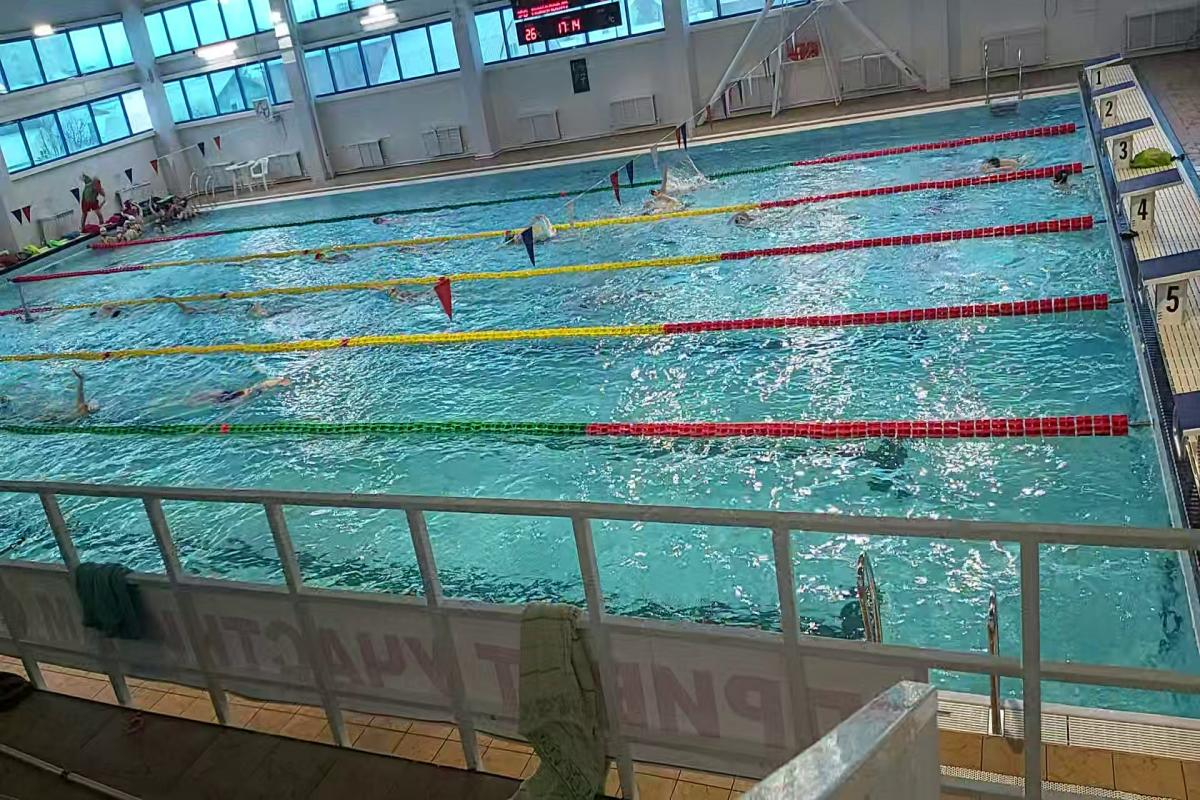swimmer: (195, 364, 302, 410), (45, 369, 109, 422), (157, 291, 218, 322), (238, 297, 303, 318), (645, 182, 692, 208), (87, 302, 132, 325), (980, 153, 1029, 170), (309, 251, 359, 265), (370, 215, 417, 229), (1051, 172, 1075, 191)
